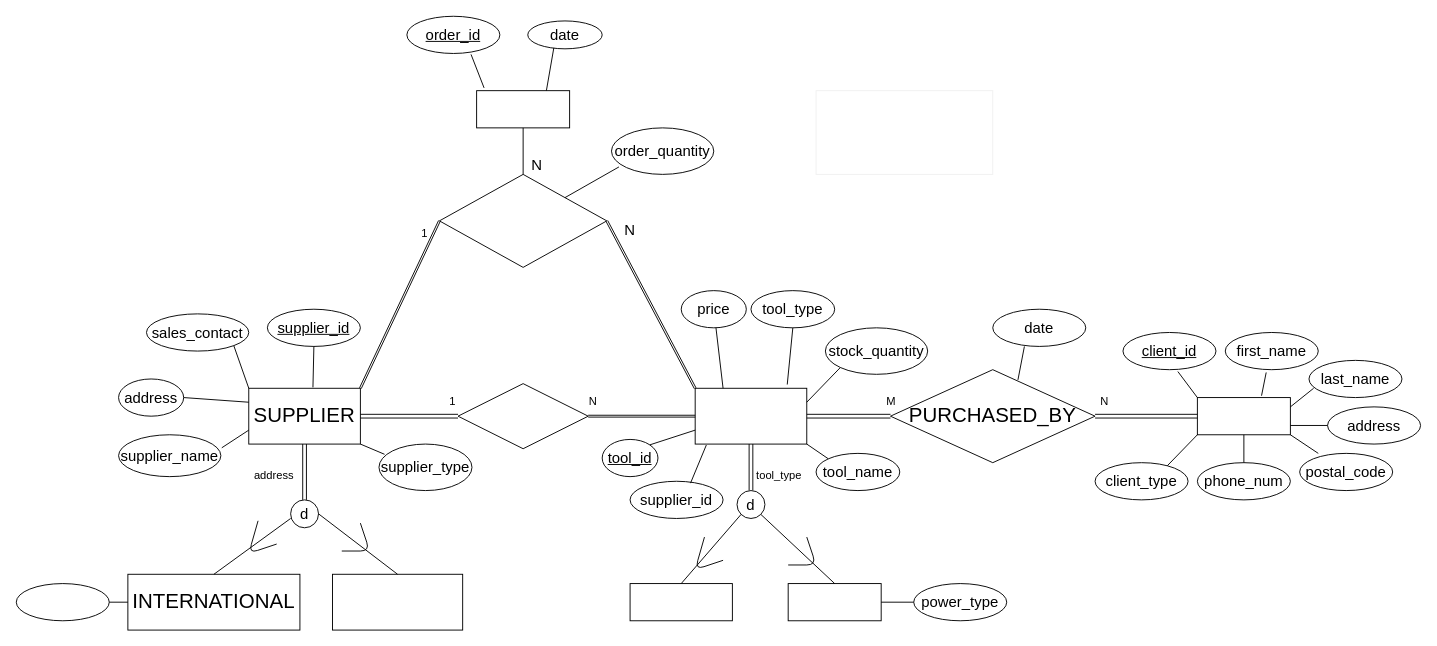
Some shapes in this 1437 by 646 pixel diagram are drawn without their labels. The centre of each missing label's shape, as x and y in pixels:
"CLIENT" belongs at point (1243, 416).
"import_tax" belongs at point (62, 602).
"Josh Posyluzny Patrick Pickard ENSF 608 & 607 Project EER Diagram" belongs at point (904, 132).
"LOCAL" belongs at point (397, 601).
"MANUAL" belongs at point (680, 602).
"ORDER" belongs at point (523, 109).
"ORDER_LINE" belongs at point (522, 220).
"POWER" belongs at point (834, 602).
"SUPPLIES" belongs at point (522, 416).
"TOOL" belongs at point (750, 415).
